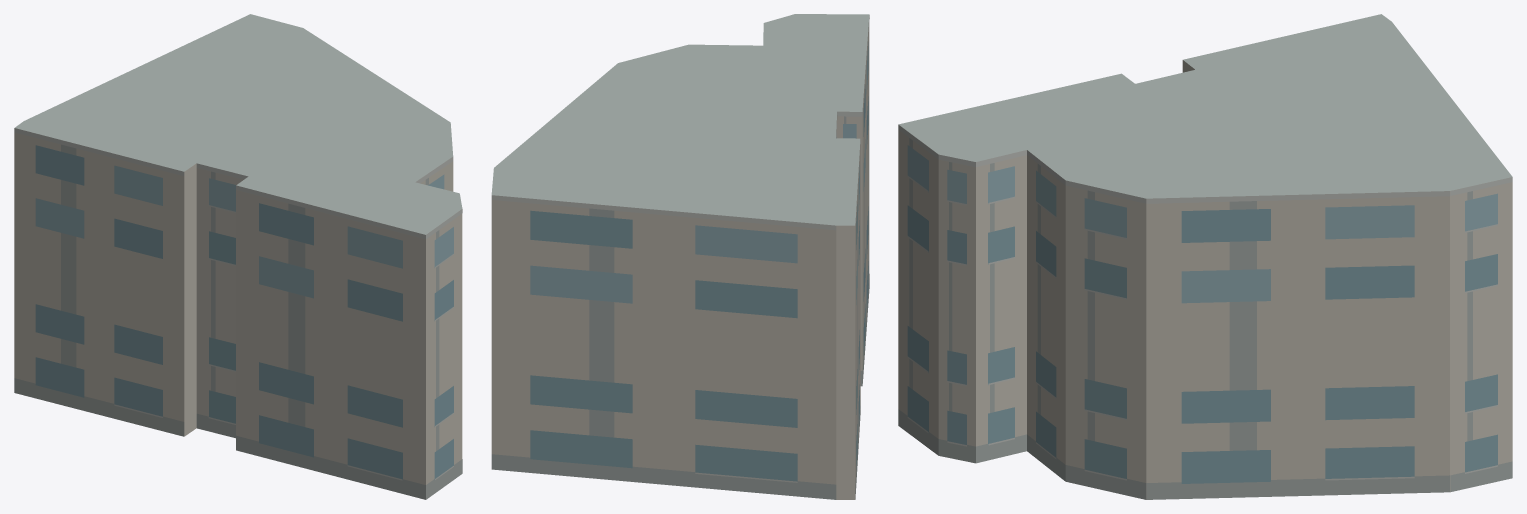
Rendered from survey-upis-32765397.glb.
3 renders of one model, left to right at view 1: azimuth 30°, elevation 25°; view 2: azimuth 150°, elevation 25°; view 3: azimuth 270°, elevation 25°, orthographic. The views are drawn at different scales.
Parts seen in each view (by area): view 1: survey-upis-32765397.tmp; view 2: survey-upis-32765397.tmp; view 3: survey-upis-32765397.tmp.
Part boxes in pixels (x1,y1,x2,y2): survey-upis-32765397.tmp: [14, 14, 462, 499]; survey-upis-32765397.tmp: [491, 14, 869, 499]; survey-upis-32765397.tmp: [898, 14, 1512, 499].
Size of the model in its own units: 18.67 by 14.2 by 26.26.
